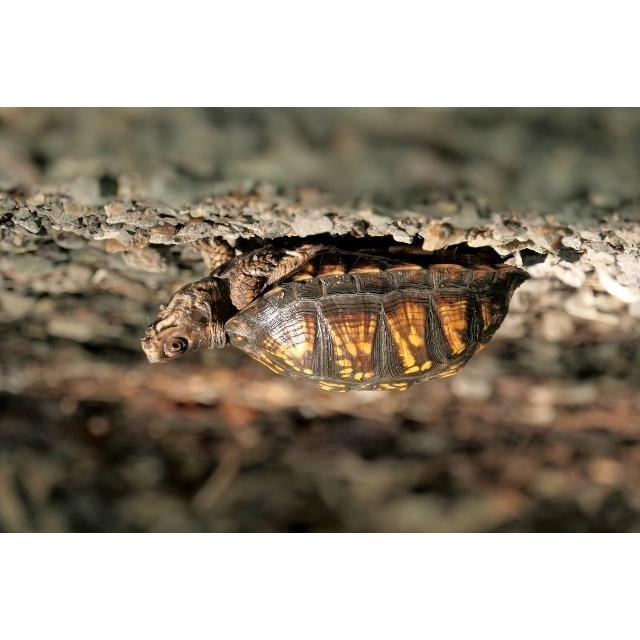turtle: (141, 237, 531, 391)
